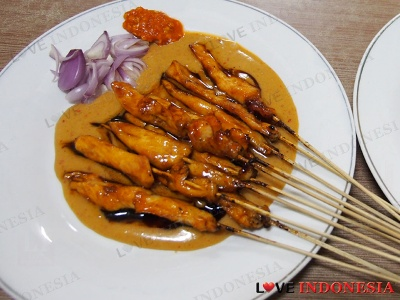sate: (73, 58, 400, 277)
